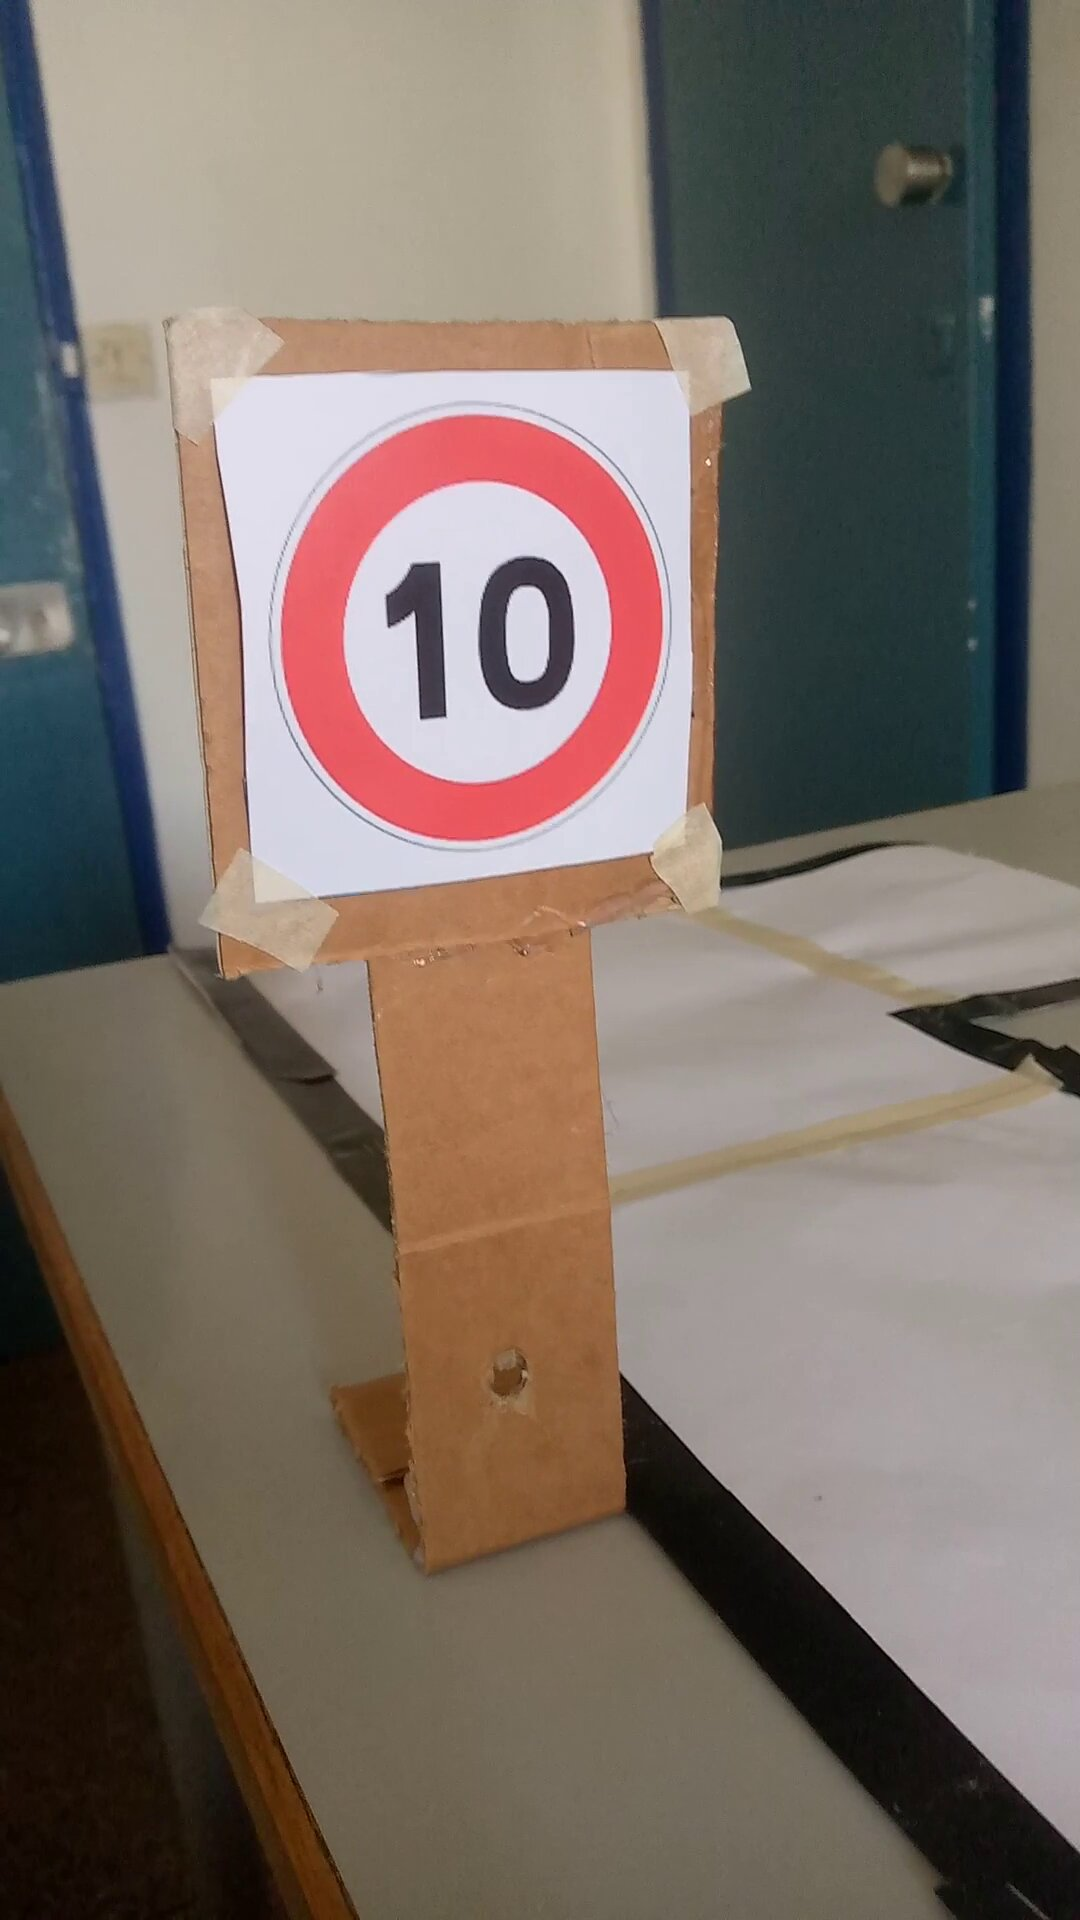panel011: (204, 367, 698, 889)
